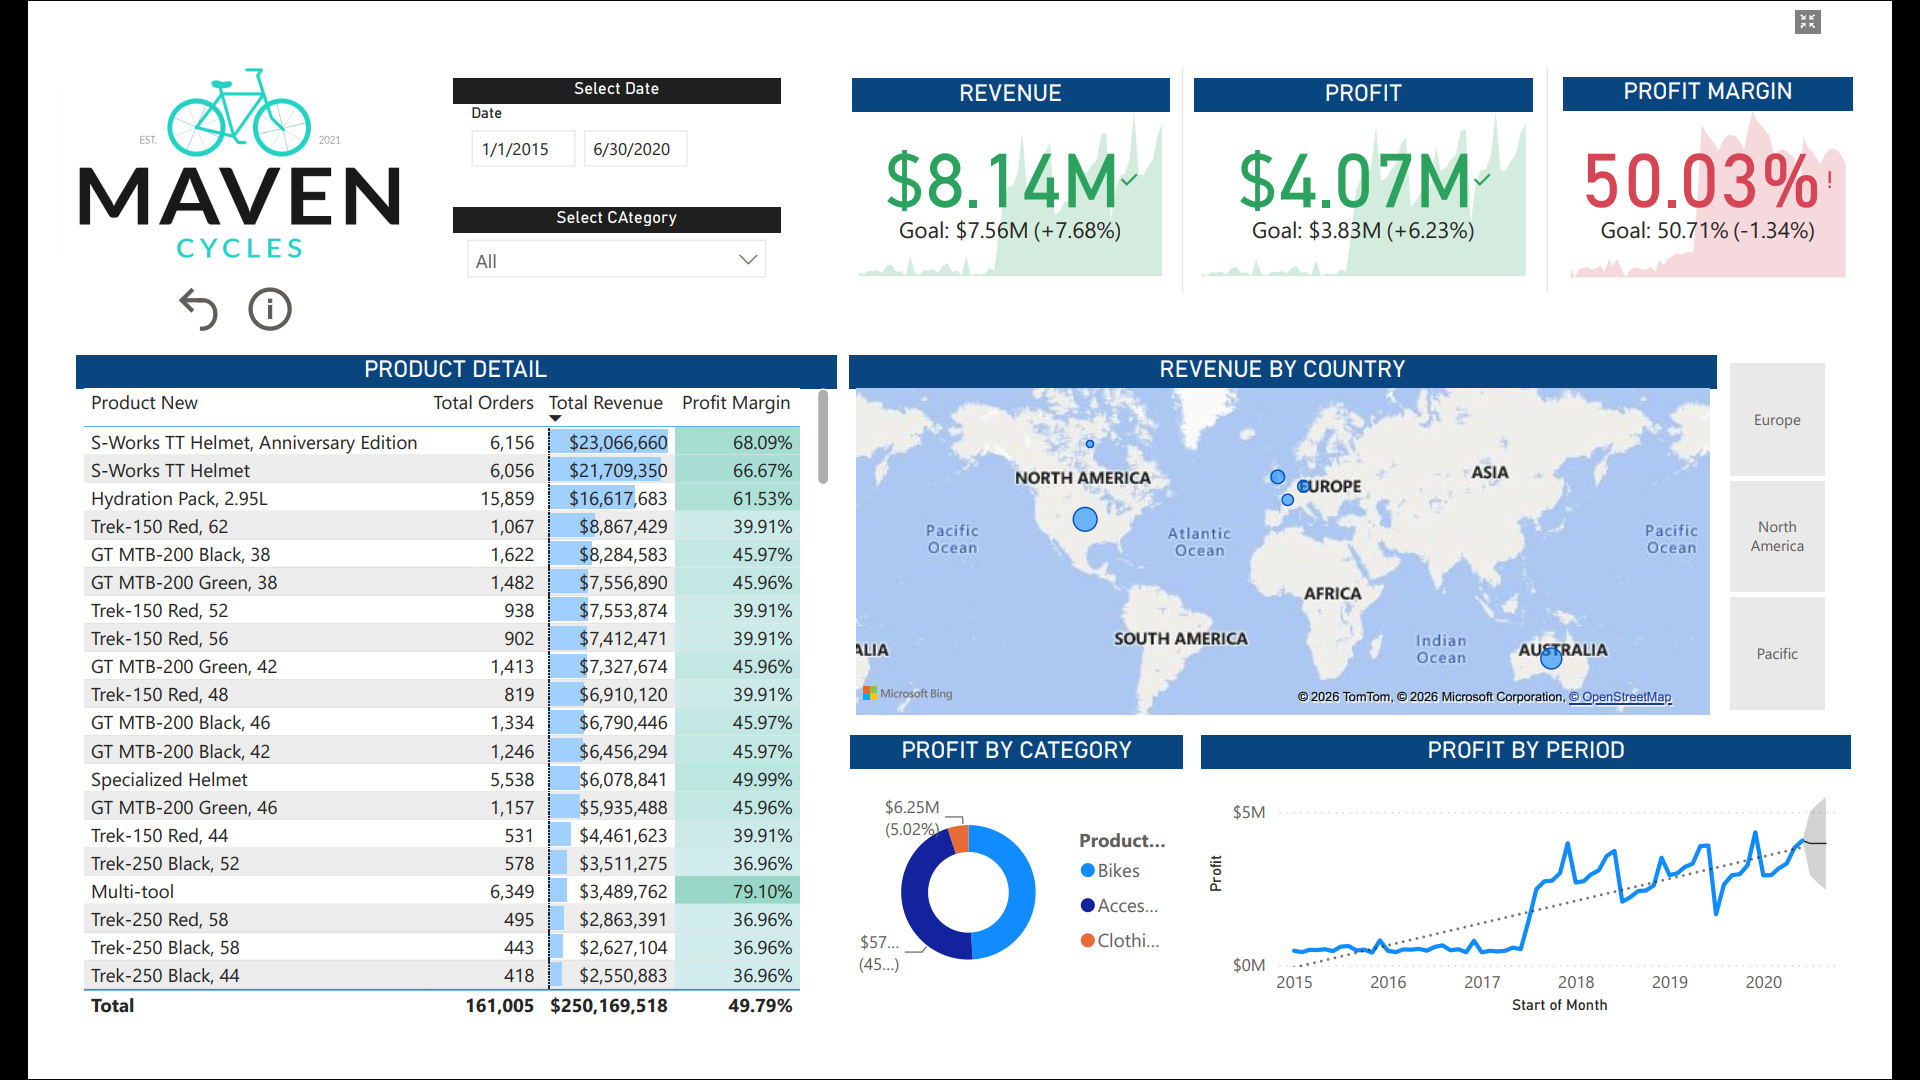

This screenshot's page, from the dashboard's own definition file:
{"tool":"powerbi","page":{"name":"Visual View 2","canvas":[1280,720],"ordinal":2},"visuals":[{"type":"donutChart","fields":{"Y":["Maven Cycles Sales.Profit"],"Category":["Maven Cycles Product Categories.Product Category"]},"box":[250.9,27.5,314.8,332.5],"z":0},{"type":"filledMap","fields":{"Category":["Maven Cycles Regions.Country"]},"box":[579,27.5,436.3,332.5],"z":1000},{"type":"kpi","title":"Total Sales by Month","fields":{"Indicator":["Maven Cycles Sales.Total Sales (SUMX)"],"TrendLine":["Maven Cycles Calendar.Month"],"Goal":["Maven Cycles Sales.Last Month Sales (DATEADD)"]},"box":[28.7,27.8,211.1,145.5],"z":2000},{"type":"kpi","title":"Profit Margin and Last Month Profit Margin by Month","fields":{"Indicator":["Maven Cycles Sales.%Profit Margin (DIVIDE)"],"TrendLine":["Maven Cycles Calendar.Month"],"Goal":["Maven Cycles Sales.Last Month Profit Margin (DATEADD)"]},"box":[28.4,188,210.1,172],"z":3000},{"type":"lineStackedColumnComboChart","fields":{"Category":["Maven Cycles Calendar.Year"],"Y":["Maven Cycles Sales.Profit"]},"box":[28.4,376,360.2,230],"z":4000},{"type":"lineChart","fields":{"Category":["Maven Cycles Calendar.Month"],"Y":["Maven Cycles Sales.Profit"]},"box":[408.8,376,423.8,212.8],"z":5000},{"type":"clusteredColumnChart","fields":{"Y":["Maven Cycles Sales.Total Order (DISCOUNT)"],"Category":["Maven Cycles Regions.Region (groups)"]},"box":[860.1,376,382.2,314.8],"z":6000}]}

Visuals, with their boxes in screenshot pixels (x1, y1, x2, y2), scaled from the page's 1280x720 canvas onto the 1920x1080 screenshot:
donutChart - Maven Cycles Sales.Profit x Maven Cycles Product Categories.Product Category: bbox(376, 41, 849, 540)
filledMap - Maven Cycles Regions.Country: bbox(868, 41, 1523, 540)
"Total Sales by Month" kpi: bbox(43, 42, 360, 260)
"Profit Margin and Last Month Profit Margin by Month" kpi: bbox(43, 282, 358, 540)
lineStackedColumnComboChart - Maven Cycles Calendar.Year x Maven Cycles Sales.Profit: bbox(43, 564, 583, 909)
lineChart - Maven Cycles Calendar.Month x Maven Cycles Sales.Profit: bbox(613, 564, 1249, 883)
clusteredColumnChart - Maven Cycles Sales.Total Order (DISCOUNT) x Maven Cycles Regions.Region (groups): bbox(1290, 564, 1863, 1036)
